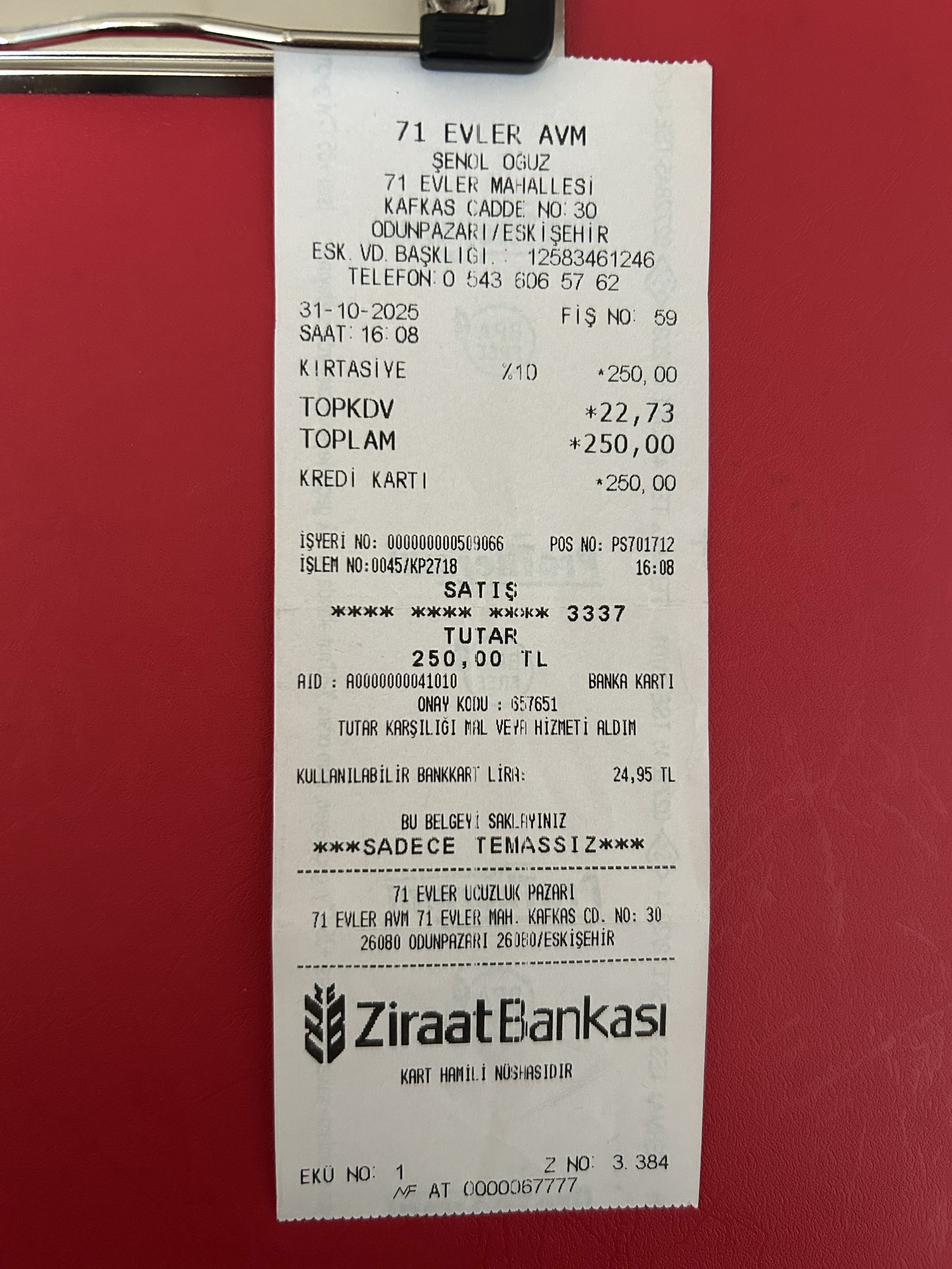date: (581, 427, 682, 464)
price: (292, 295, 425, 324)
workplace: (355, 115, 641, 249)
